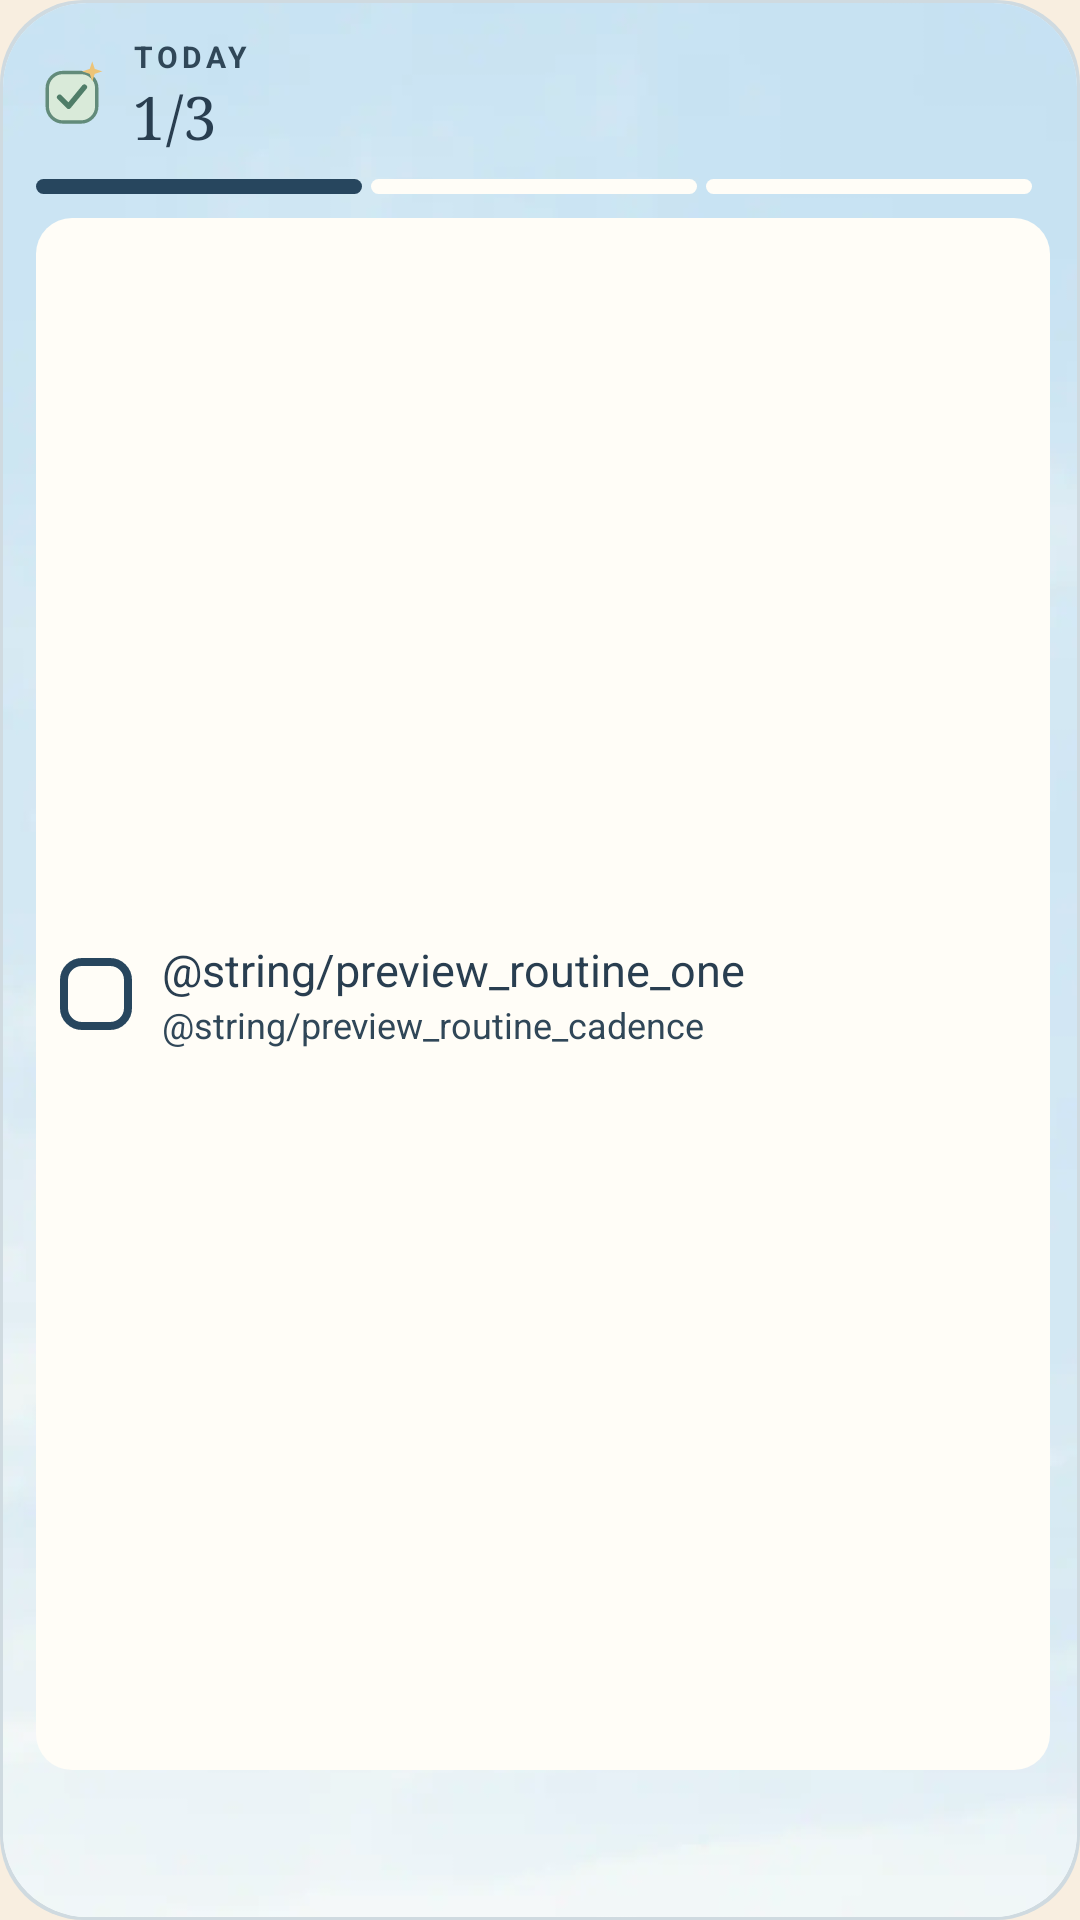

Icons on this 1080 × 1920 Android screen, each with the point to tap as point (x, y):
check box: point (96, 994)
desk done: point (73, 93)
